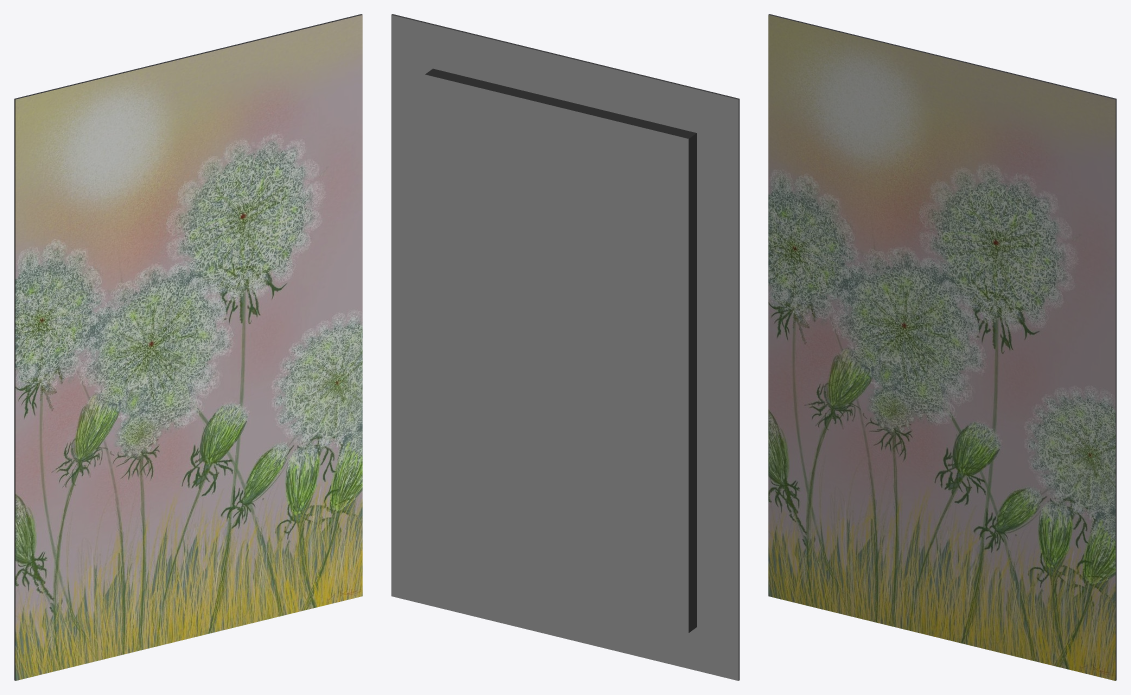
Rendered from os010_moyen_dibond.glb.
3 views of the same model, side by side, from view 1: azimuth 30°, elevation 25°; view 2: azimuth 150°, elevation 25°; view 3: azimuth 330°, elevation 25° (orthographic).
Parts seen in each view (by area): view 1: os010_moyen_dibond; view 2: os010_moyen_dibond; view 3: os010_moyen_dibond.
Boxes of the visible parts, x1,y1,x2,y2 form: os010_moyen_dibond: [14, 14, 362, 680]; os010_moyen_dibond: [391, 14, 739, 680]; os010_moyen_dibond: [768, 14, 1116, 680].
Bounding box in the file's own units: 0.5 × 0.8 × 0.023.
4 materials, 1 textured.
